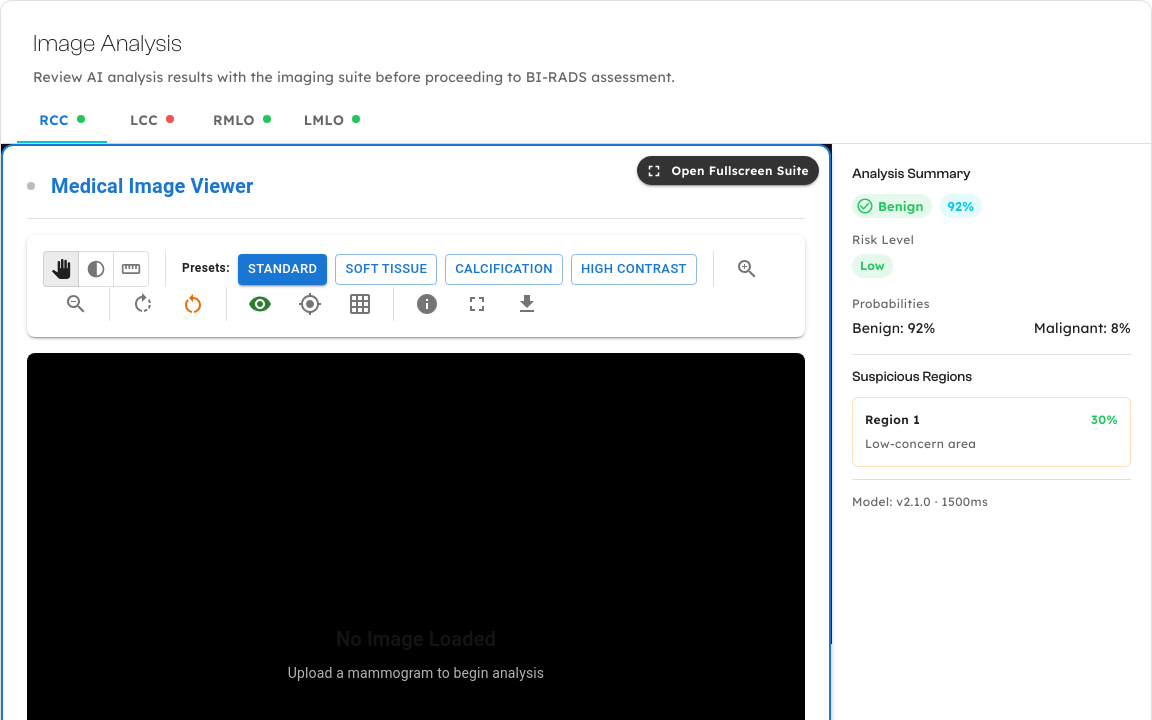
Test: WorkflowAnalysisSuite — Findings Sidebar › should show "No suspicious regions" when none exist
# Switch to RMLO (no regions)
Step 1. Click the tab "RMLO" → click(242, 119), box [197,95,287,143]
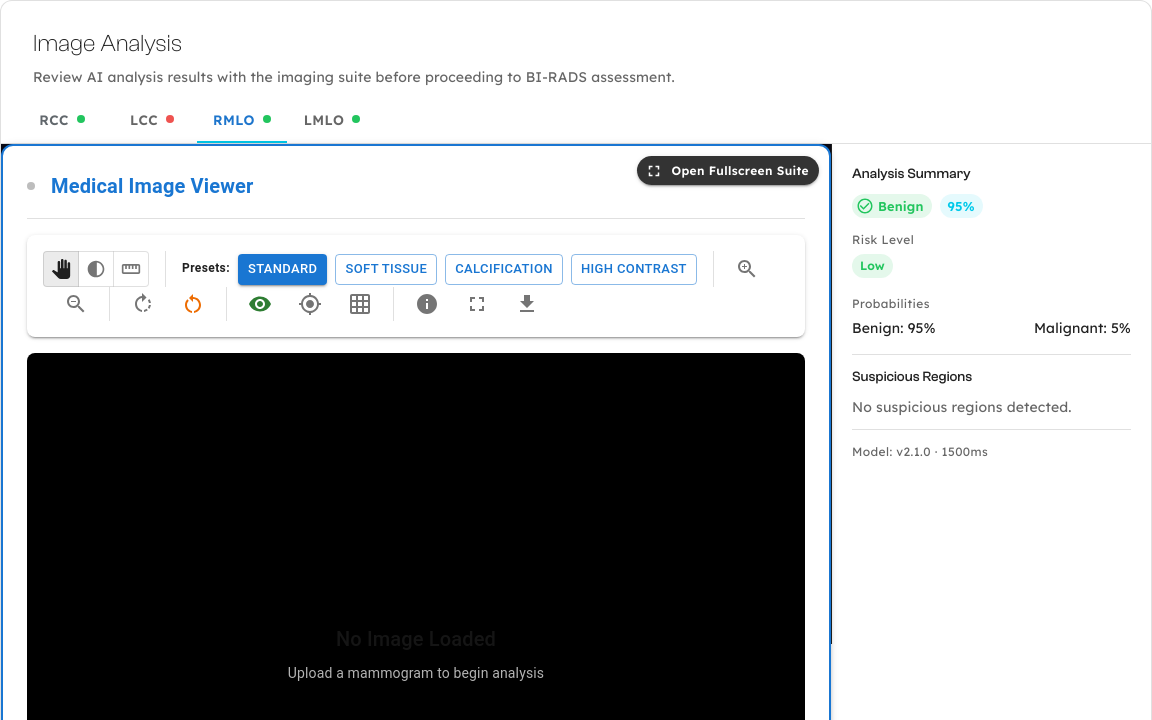
Now the text "No suspicious regions detected." is shown, box [852,398,1072,416]
